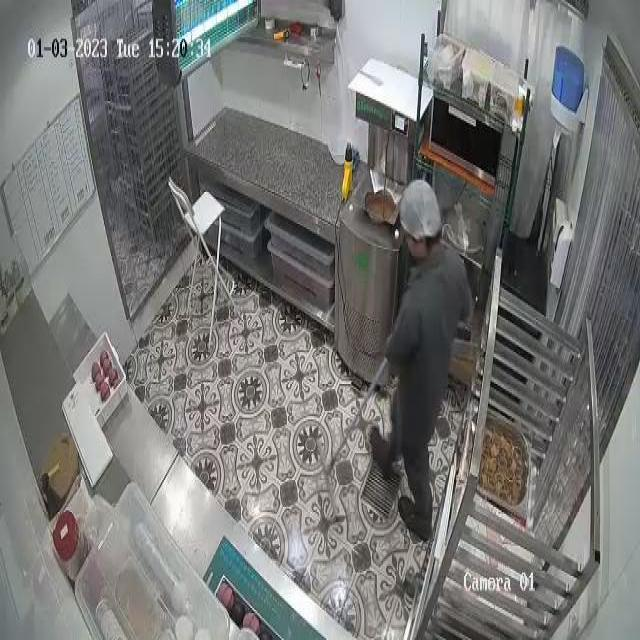hairnet: (402, 176, 441, 240)
